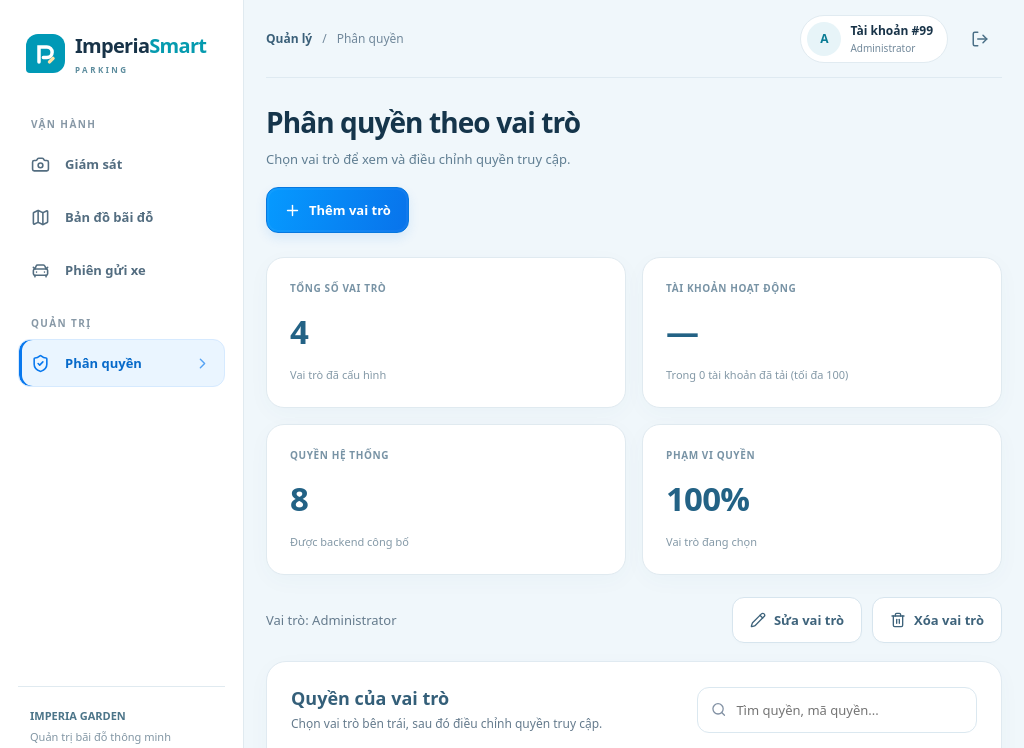
it: role and permission administration › retains a role on an assigned-users conflict
Check: the text "Vai trò: Administrator" is shown, box [266, 611, 396, 629]
Step 1. Click the button "Xóa vai trò" → [937, 620], box [872, 597, 1002, 643]
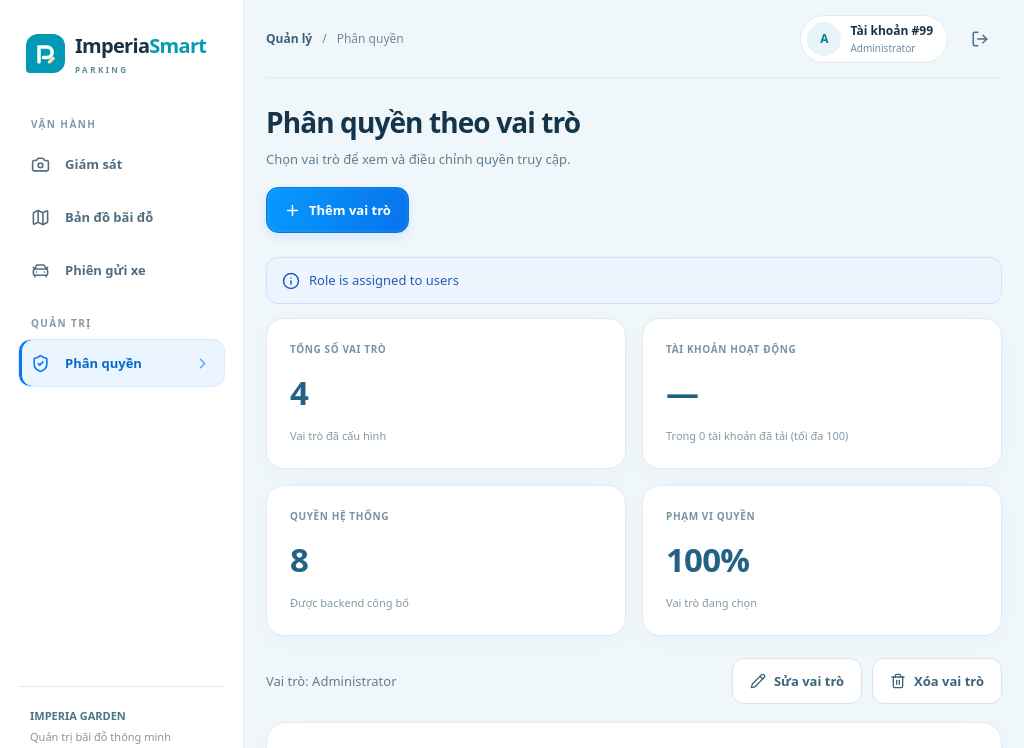
Check: the text "Vai trò: Administrator" is shown, box [266, 672, 396, 690]
Check: the text "Role is assigned to users" is shown, box [266, 257, 1002, 304]
